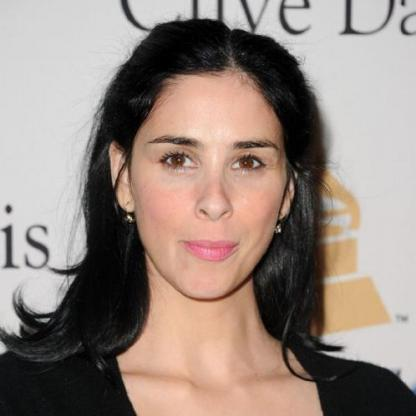long-hair: (69, 304, 342, 351)
